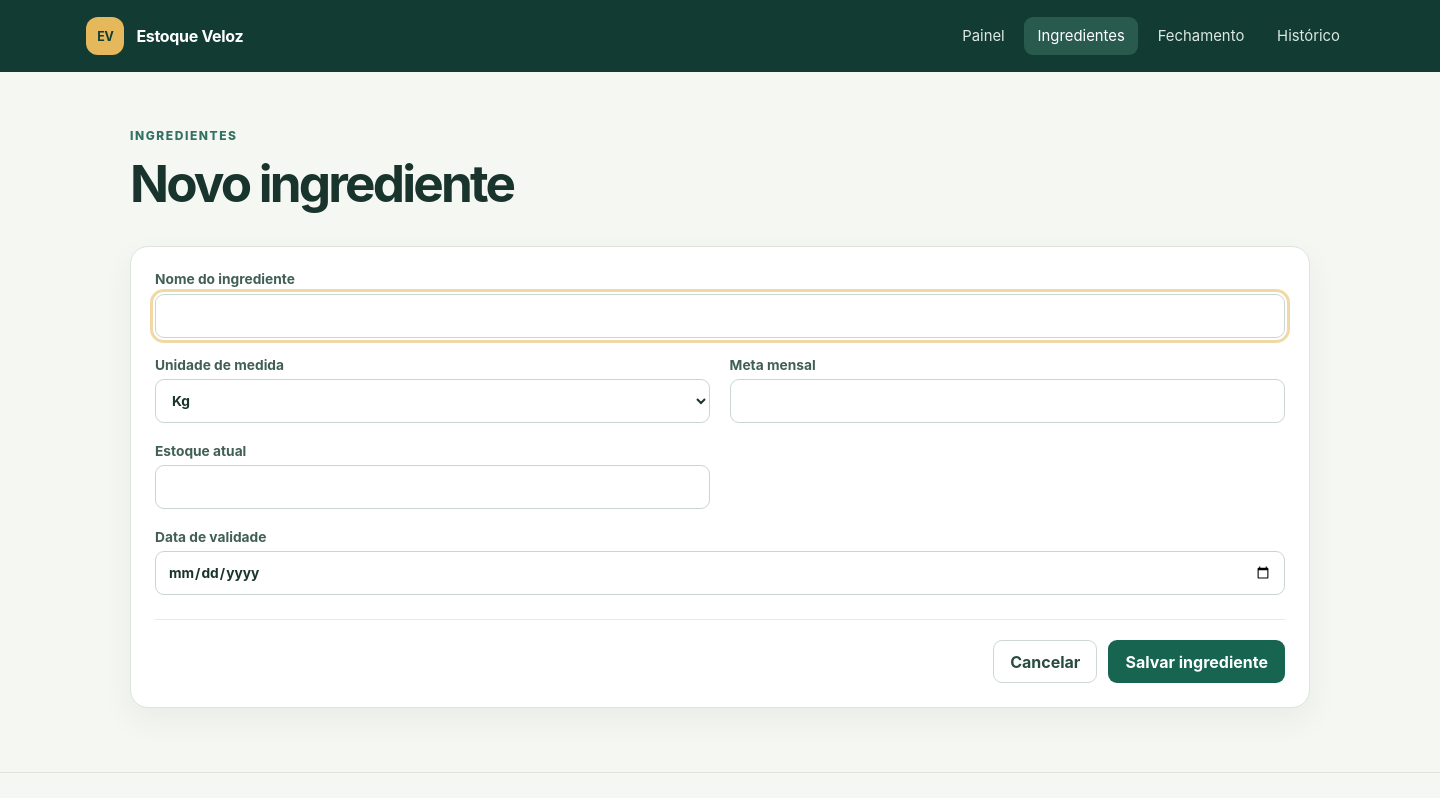
Test: Telas de ingredientes › apresenta erros de validação devolvidos pelo Django
Type "Farinha" into the field labelled "Nome do ingrediente".
click(720, 316); type("Farinha")  # box [155, 294, 1285, 338]
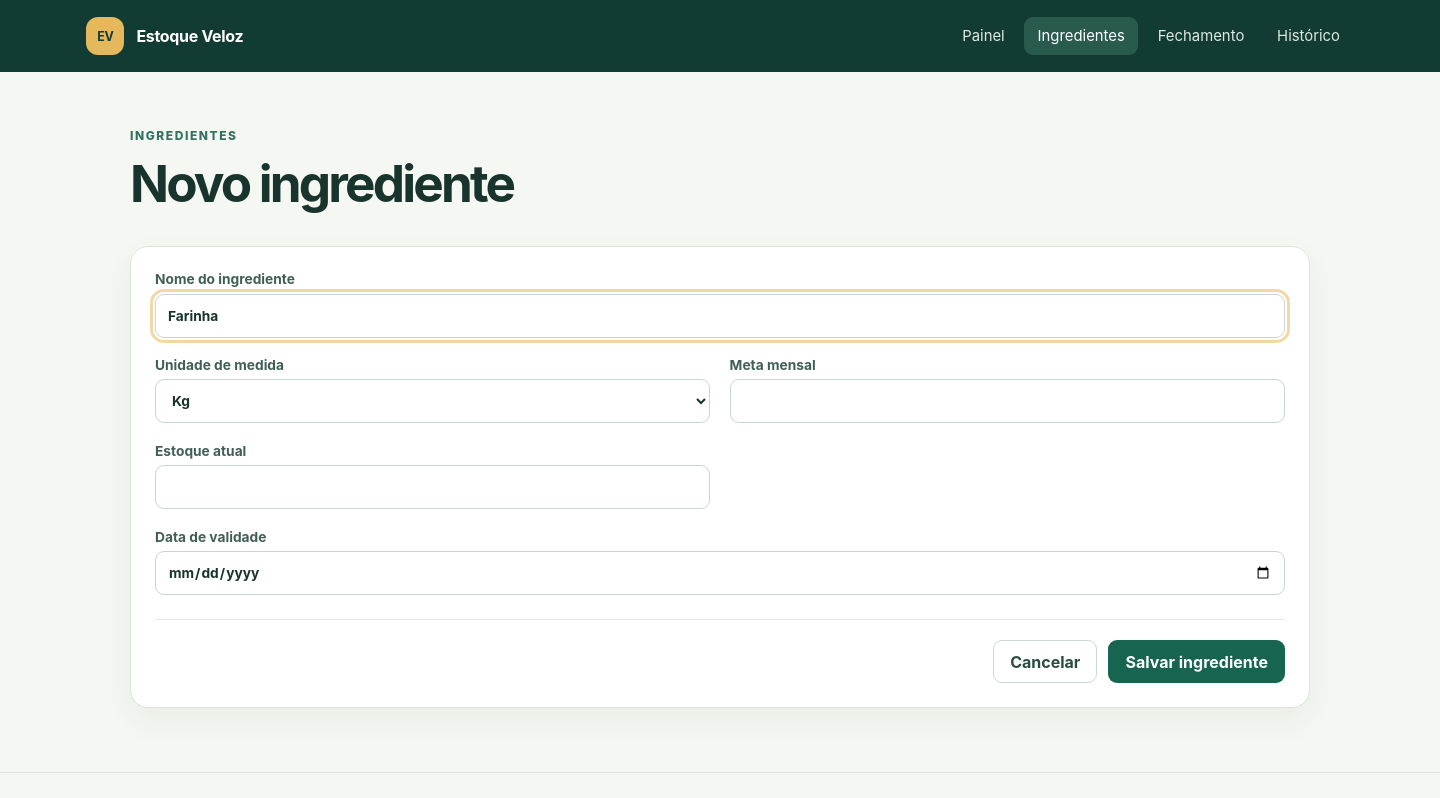
Type "0" into the number field labelled "Meta mensal".
click(1007, 401); type("0")  # box [730, 379, 1285, 423]
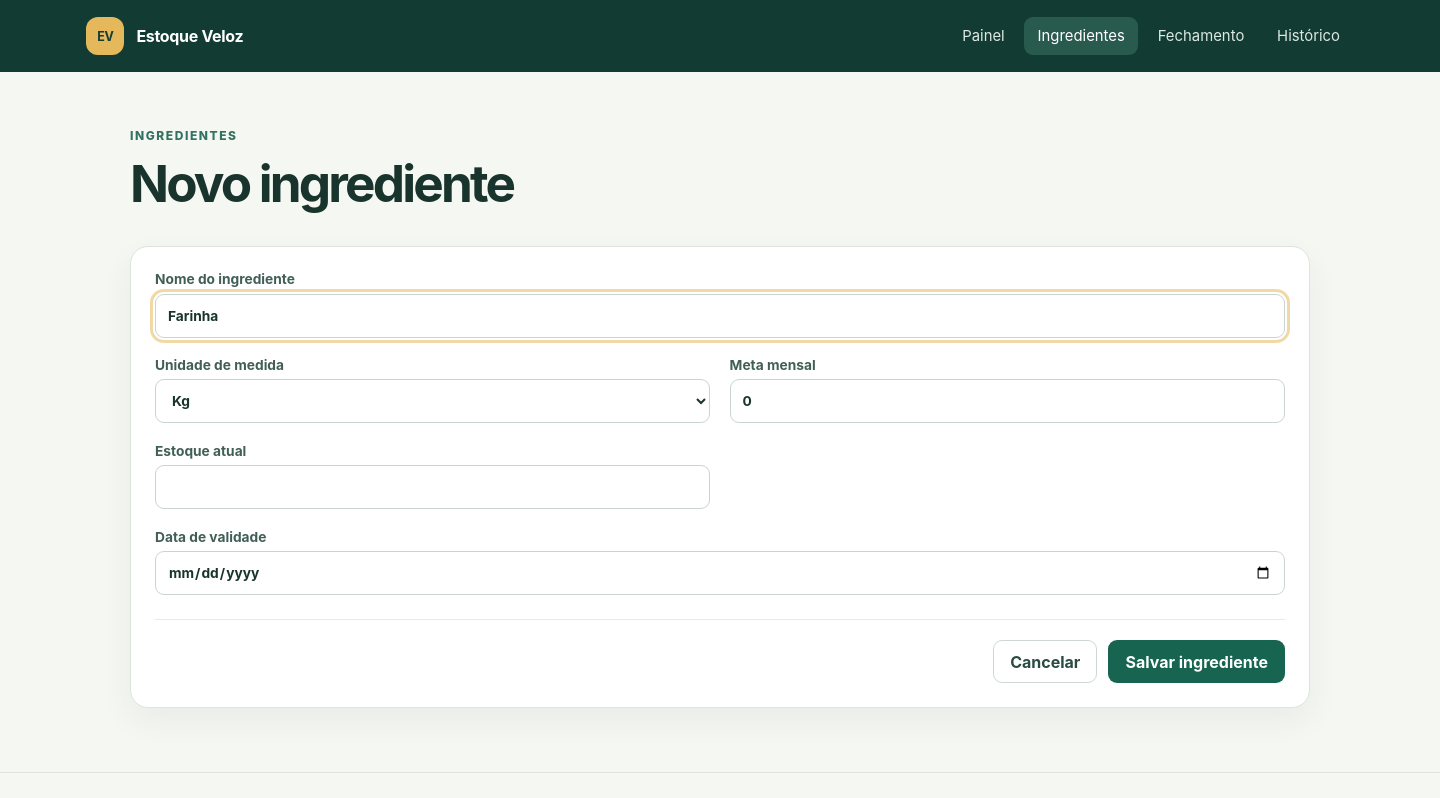
Type "1" into the number field labelled "Estoque atual".
click(433, 487); type("1")  # box [155, 465, 710, 509]
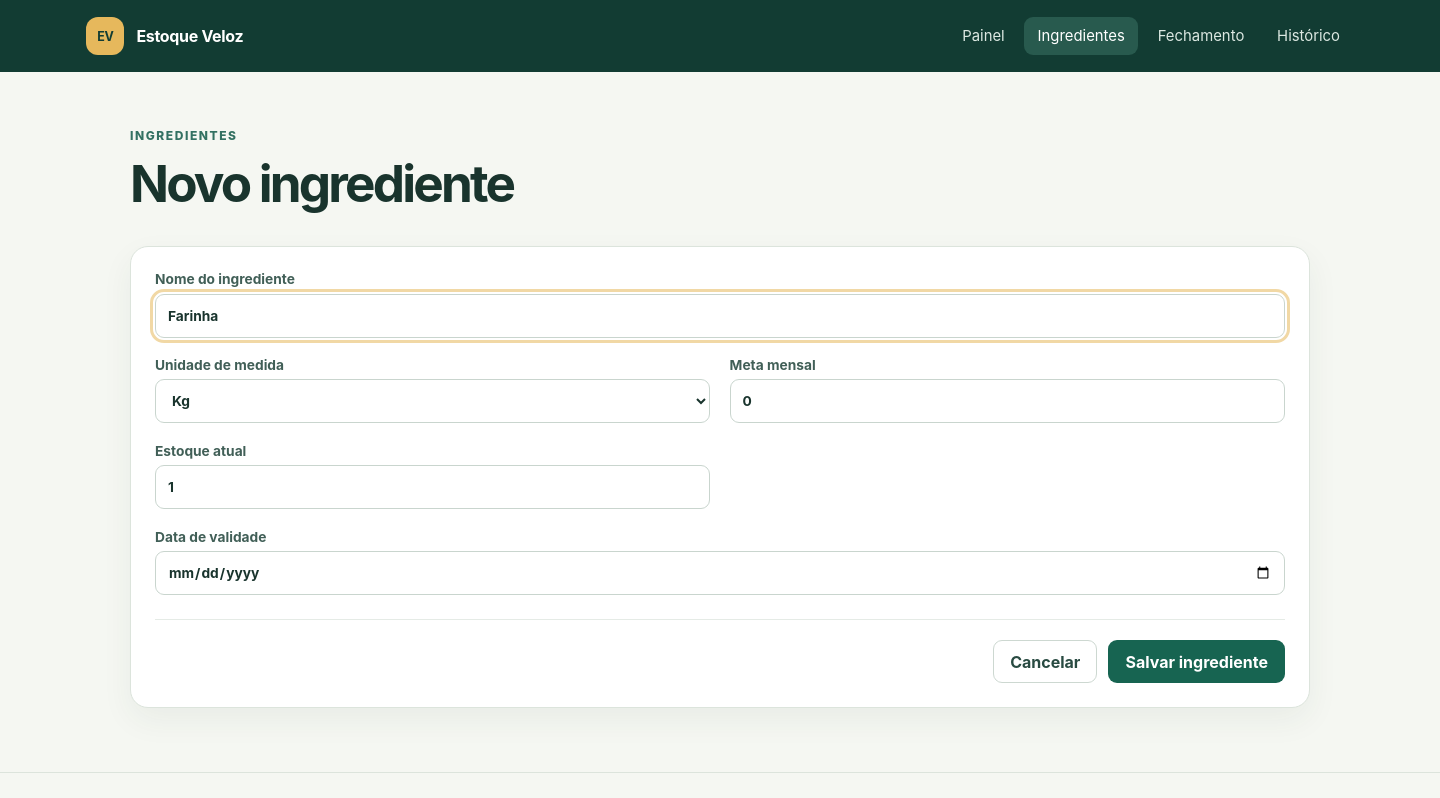
Type "2026-10-20" into the date field labelled "Data de validade".
click(720, 573); type("2026-10-20")  # box [155, 551, 1285, 595]
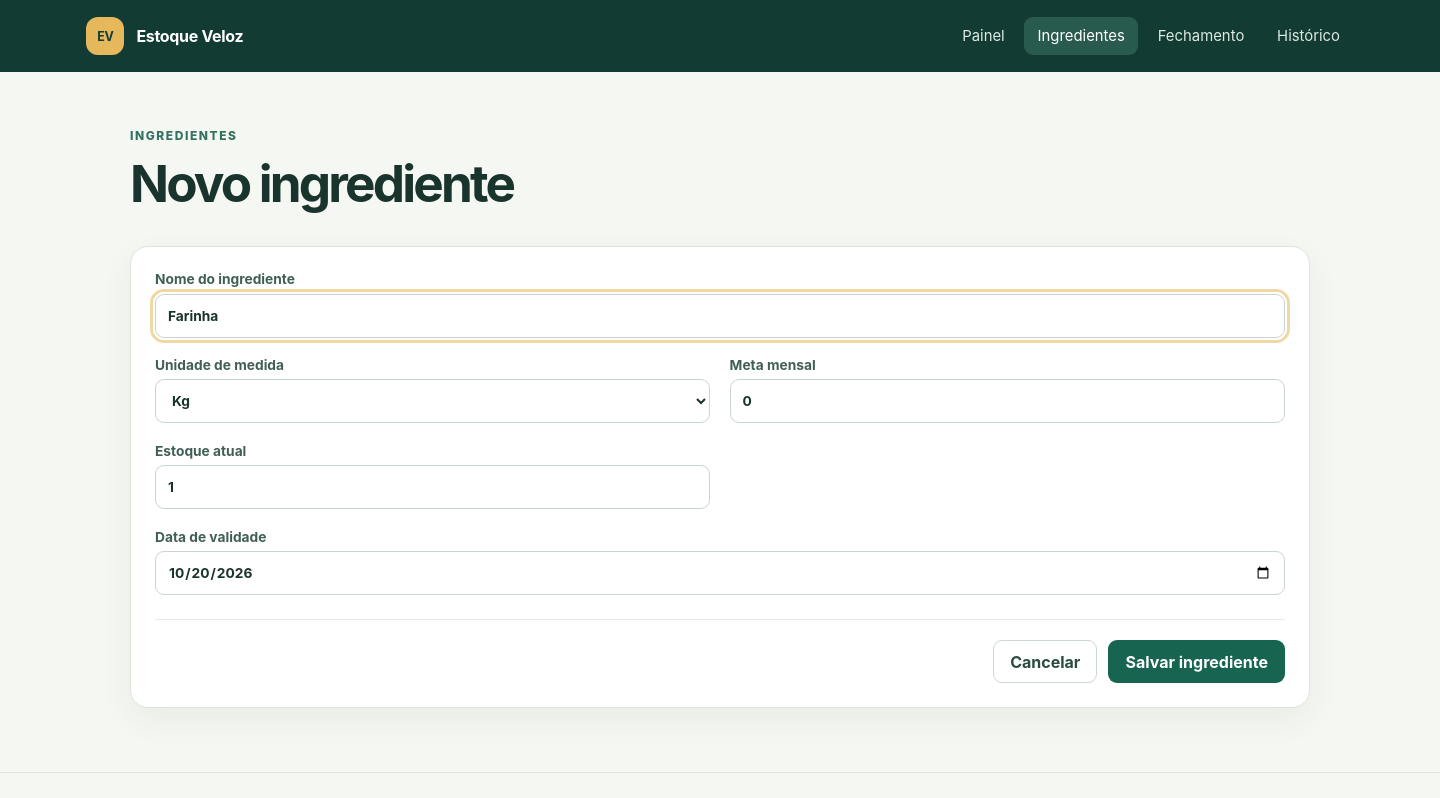
Submit the form named "Salvar ingrediente", box [130, 246, 1310, 708]
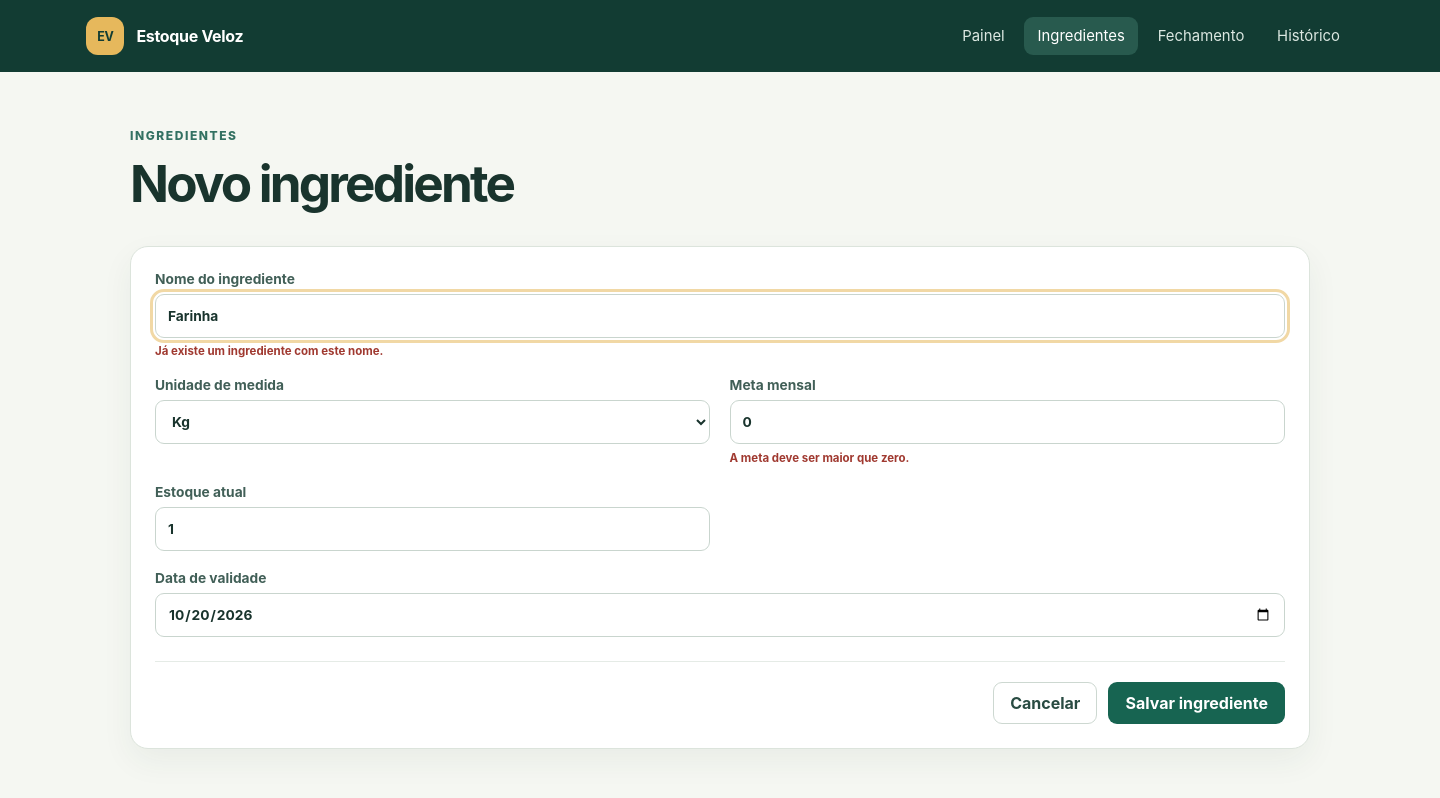
Check: the text "Já existe um ingrediente com este nome." is shown, box [155, 344, 383, 358]
Check: the text "A meta deve ser maior que zero." is shown, box [730, 451, 909, 465]
